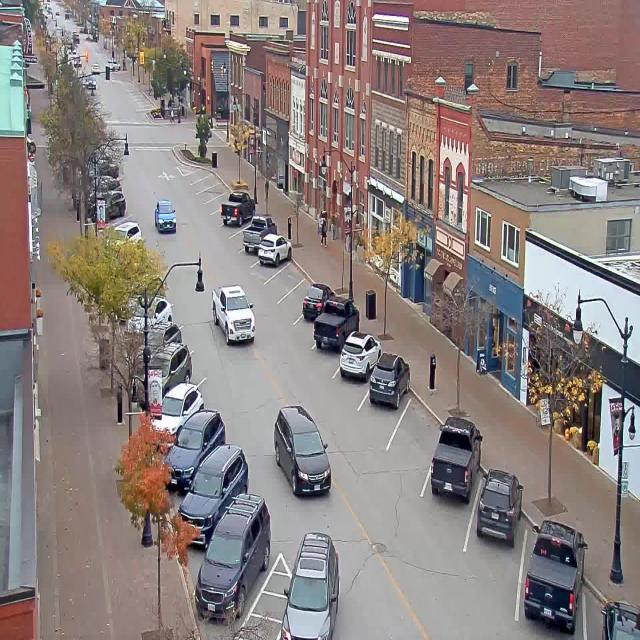available: (390, 380, 447, 474), (275, 254, 303, 293), (290, 277, 316, 311), (231, 212, 252, 240), (216, 187, 233, 208), (209, 177, 223, 199), (190, 163, 204, 183), (200, 171, 214, 190)
occupied: (194, 492, 271, 623), (176, 442, 249, 548), (523, 518, 588, 634), (162, 408, 226, 491), (430, 416, 482, 502), (476, 468, 524, 547), (150, 380, 204, 446), (313, 296, 359, 352), (369, 351, 410, 409), (339, 330, 381, 381), (155, 341, 197, 391), (600, 600, 640, 639), (242, 214, 277, 254), (220, 190, 256, 226), (257, 233, 292, 267), (302, 282, 332, 321)
